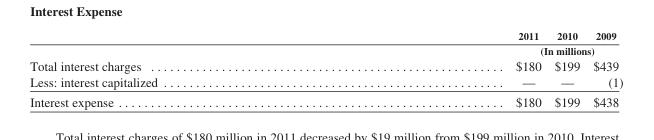table: (29, 29, 622, 108)
table column: (29, 29, 336, 108), (336, 29, 547, 108), (547, 29, 585, 108), (585, 29, 622, 108)
table column header: (29, 29, 622, 57)
table row: (29, 73, 622, 91), (29, 91, 622, 108), (29, 57, 622, 73), (29, 29, 622, 43), (29, 43, 622, 57)
table spanning cell: (336, 43, 622, 57)
